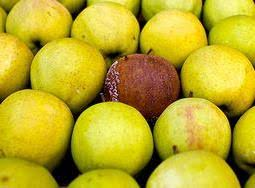apple: (34, 43, 108, 108), (4, 96, 70, 162), (82, 105, 149, 163), (182, 50, 251, 104), (155, 151, 241, 188), (143, 12, 203, 56), (82, 7, 136, 49), (215, 18, 252, 52)
damaged_apple: (109, 54, 179, 119)
